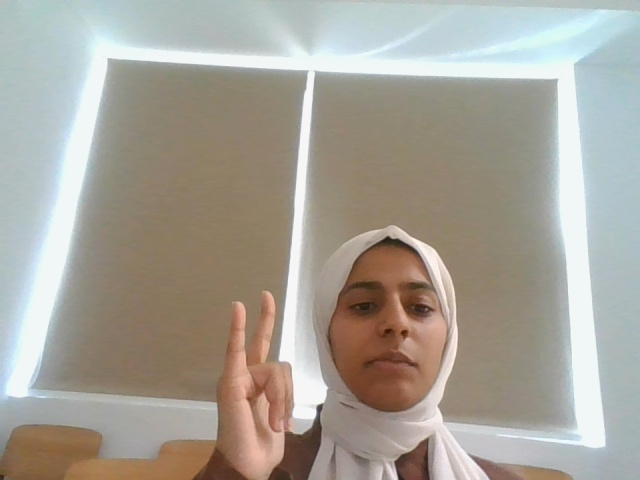love: (201, 288, 308, 480)
